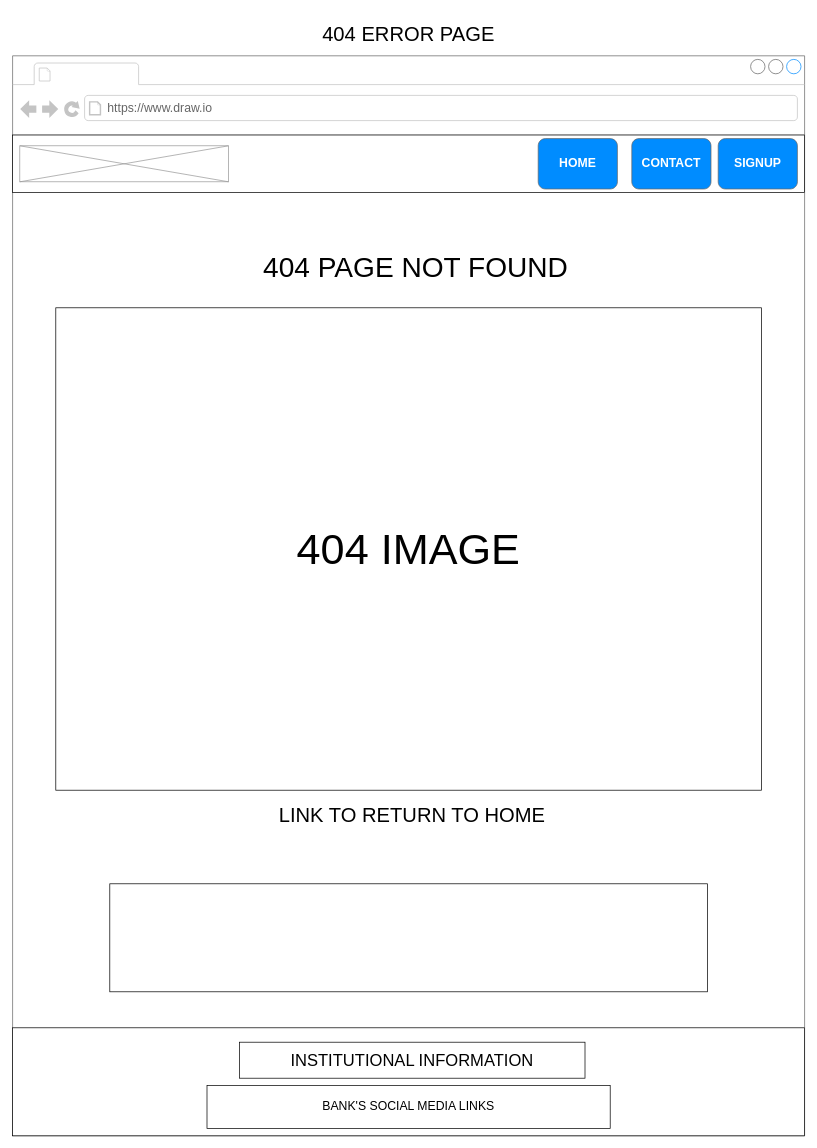
Some shapes in this 817 by 1148 pixel diagram are drawn without their labels. The box of each missing label's shape, as (x1, y1, x2, y2) in pixels:
LOGO: (19, 145, 229, 182)
MAP: (109, 883, 707, 992)
Page 1: (55, 64, 135, 83)
